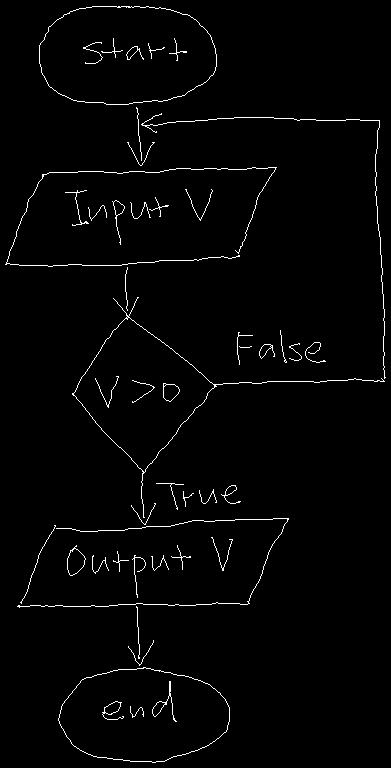arrow: (141, 113, 385, 384), (127, 107, 154, 165), (128, 606, 153, 665), (131, 471, 155, 524), (113, 267, 138, 316)
data: (5, 167, 276, 266), (17, 518, 288, 607)
decision: (72, 315, 216, 473)
terminator: (39, 6, 216, 104), (58, 667, 229, 762)
text: (67, 537, 232, 597), (65, 189, 212, 244), (237, 330, 325, 364), (102, 681, 176, 721), (95, 376, 179, 407), (83, 38, 186, 63), (156, 483, 240, 509)
